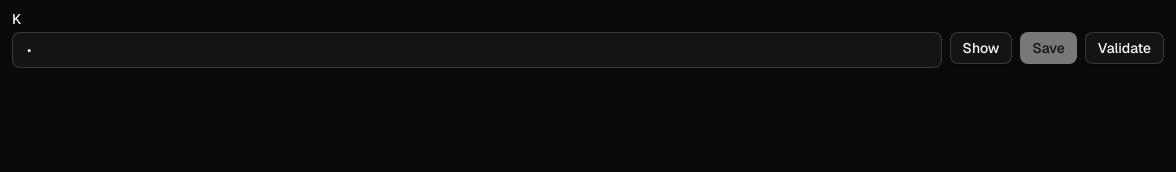
Scenario: CredentialInput — validate › successful validation shows a success indicator
The image size is (1176, 172).
Check: the password field labelled "K" is shown, box [12,32,942,68]
Click the button "Validate".
click(1124, 48)  # box [1085,32,1164,64]
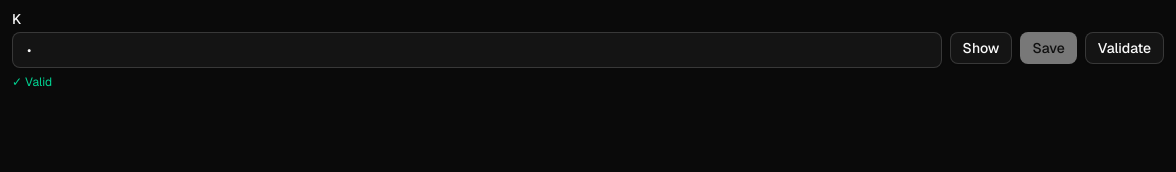
Check: the text "✓ Valid" is shown, box [12,74,52,90]
